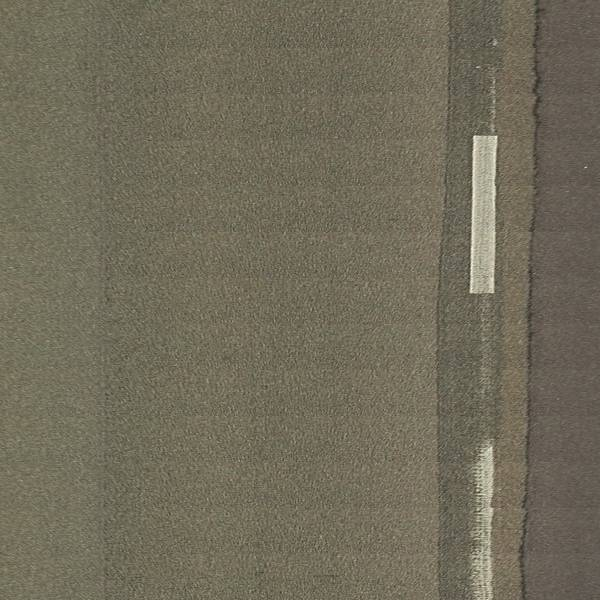road_damage: (509, 1, 555, 600)
